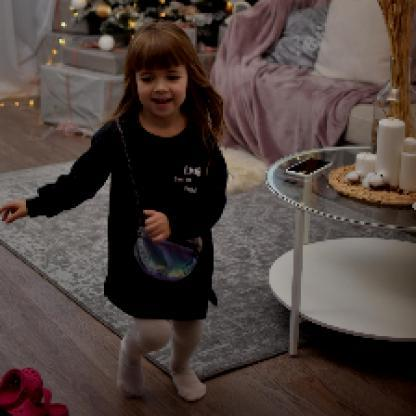child: (2, 22, 229, 403)
